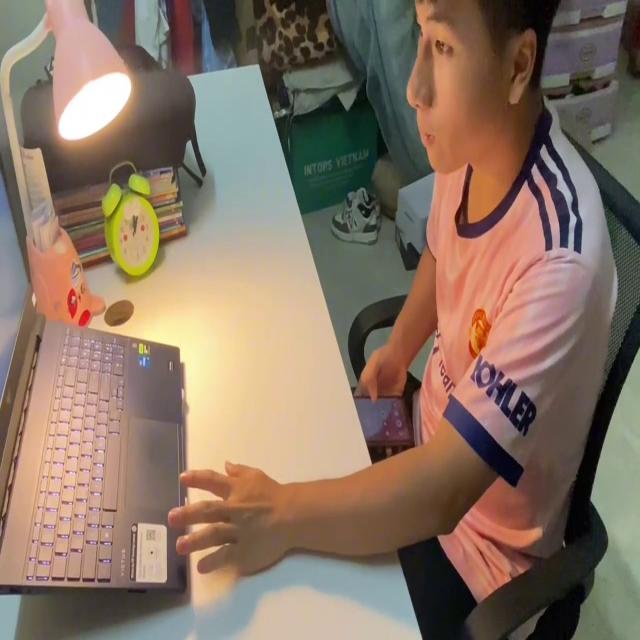laptop: (1, 145, 190, 599)
phone: (351, 388, 411, 452)
student: (164, 0, 620, 640)
